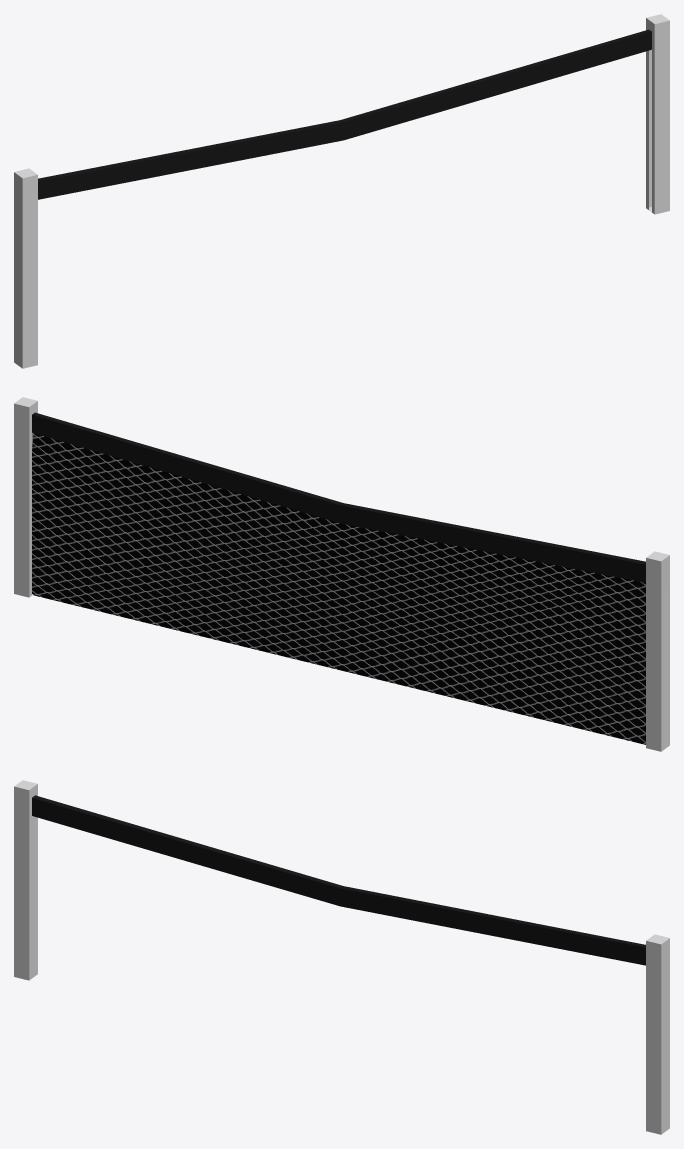
Rendered from red.fbx.
3 renders of one model, top to bottom at view 1: azimuth 30°, elevation 25°; view 2: azimuth 150°, elevation 25°; view 3: azimuth 330°, elevation 25°, orthographic.
Visible parts, largest first — view 1: Cube; view 2: Cube; view 3: Cube.
Part boxes in pixels (x1,y1,x2,y2): Cube: (14,14,669,368); Cube: (14,397,669,751); Cube: (14,780,669,1134).
Size of the model in its own units: 819 by 232 by 19.22.
